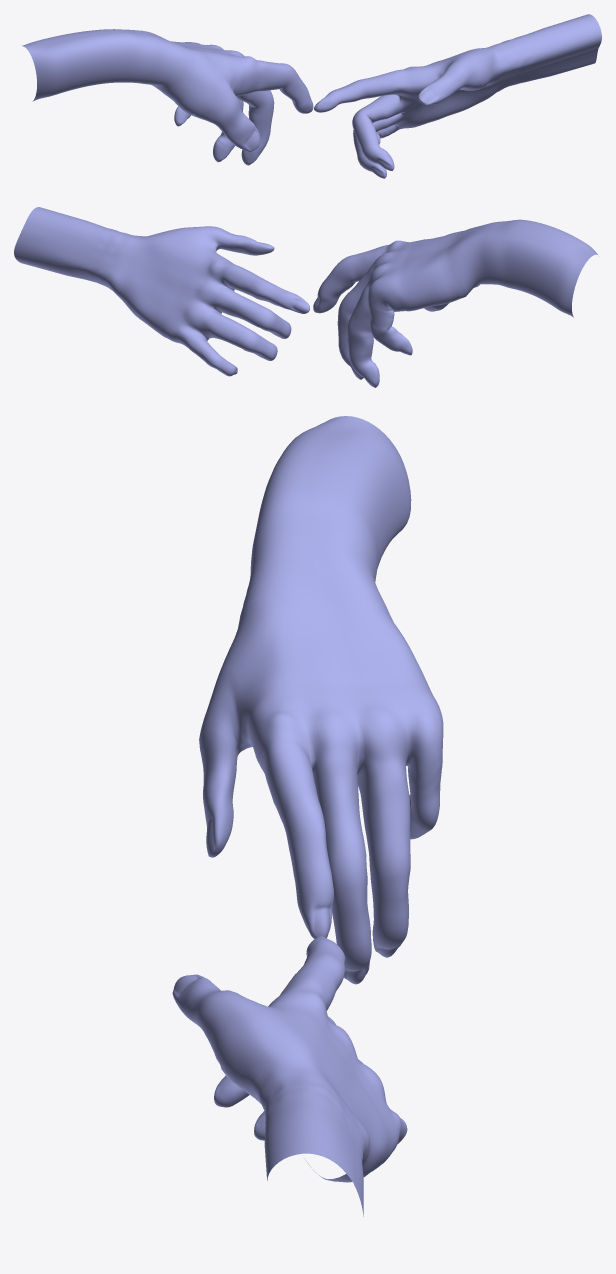
Rendered from hands.glb.
3 renders of one model, top to bottom at view 1: azimuth 30°, elevation 25°; view 2: azimuth 150°, elevation 25°; view 3: azimuth 270°, elevation 25°, orthographic. The views are drawn at different scales.
Parts seen in each view (by area): view 1: adams-hand, gods-hand; view 2: gods-hand, adams-hand; view 3: adams-hand, gods-hand.
Part boxes in pixels (<box>): adams-hand: <box>22,29,313,165</box>; gods-hand: <box>314,14,601,178</box>; gods-hand: <box>14,207,309,376</box>; adams-hand: <box>313,219,599,387</box>; adams-hand: <box>199,416,443,984</box>; gods-hand: <box>172,936,407,1216</box>.
Size of the model in its own units: 1.34 by 0.4742 by 0.2792.
